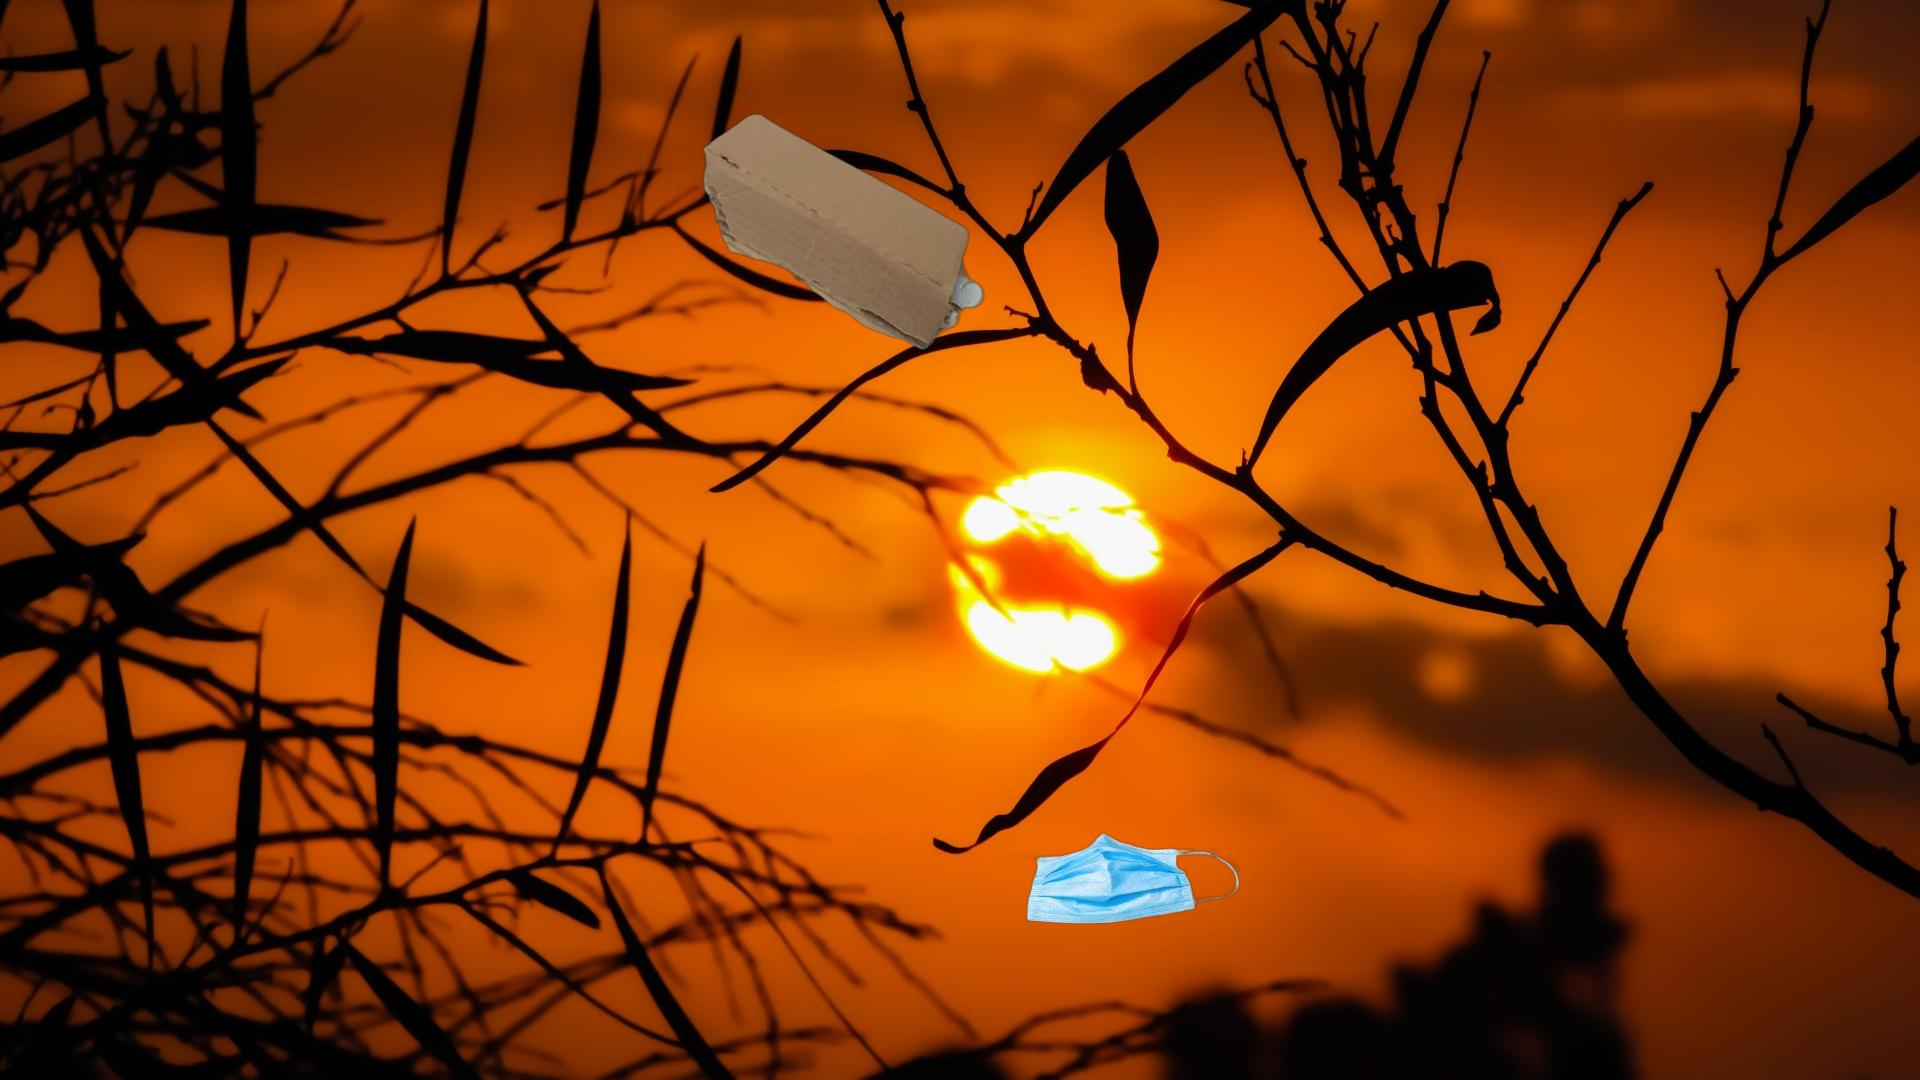trash: (988, 831, 1242, 927)
trashbox-cardboard: (699, 111, 988, 353)
